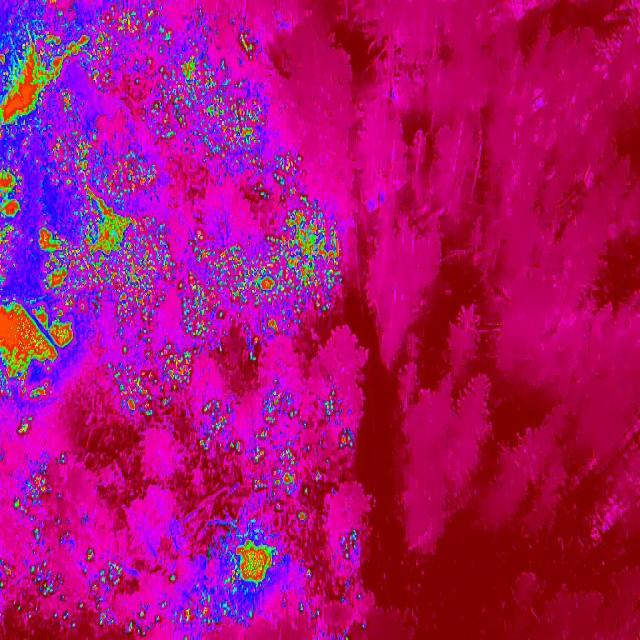fire: (178, 231, 344, 347), (156, 50, 270, 168), (251, 390, 321, 526), (45, 136, 161, 218), (74, 194, 170, 288), (0, 289, 82, 399), (0, 30, 78, 130), (296, 526, 364, 640), (108, 340, 204, 418), (74, 3, 151, 86), (8, 456, 56, 525), (0, 556, 63, 605), (254, 146, 307, 204), (111, 286, 163, 342), (32, 223, 76, 289), (0, 168, 23, 291), (224, 539, 275, 591), (201, 402, 248, 456), (84, 546, 123, 602), (282, 200, 338, 232), (324, 390, 352, 450), (74, 603, 120, 629), (125, 607, 154, 640), (178, 599, 212, 626), (13, 415, 36, 440), (237, 30, 255, 56), (160, 23, 176, 51), (56, 451, 70, 467), (164, 572, 178, 586)
